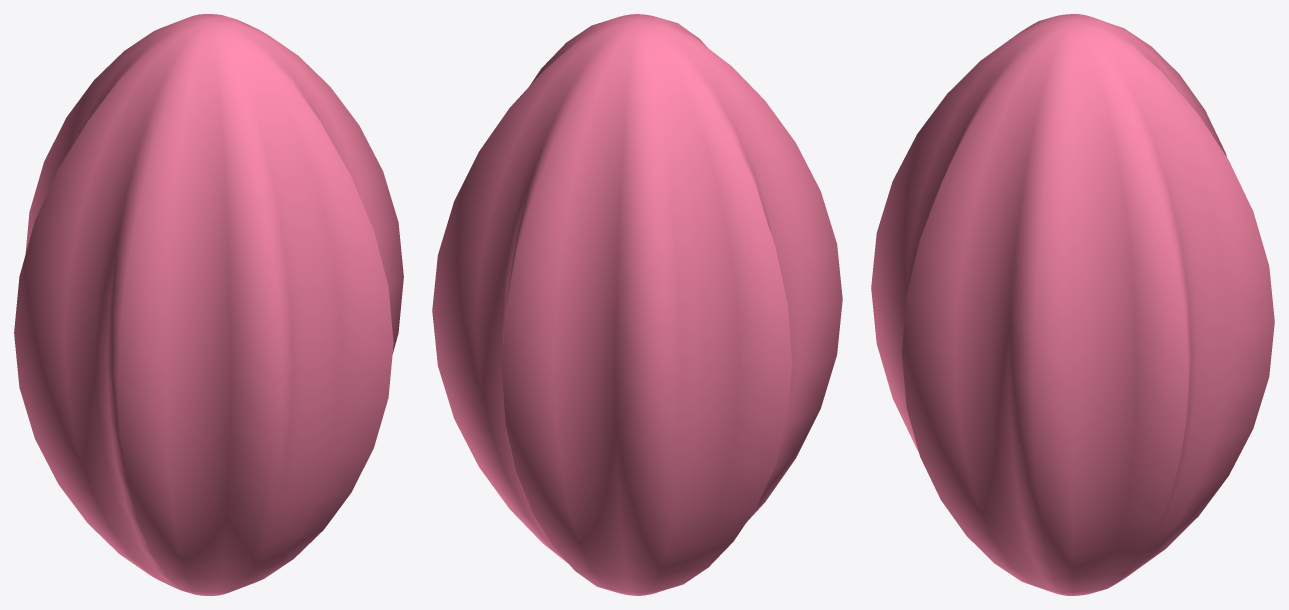
File: SM_PlanteCactus.fbx
3 renders of one model, left to right at view 1: azimuth 30°, elevation 25°; view 2: azimuth 150°, elevation 25°; view 3: azimuth 270°, elevation 25°, orthographic.
Parts seen in each view (by area): view 1: SM_PlanteCactus; view 2: SM_PlanteCactus; view 3: SM_PlanteCactus.
Boxes of the visible parts, <box> form: SM_PlanteCactus: <box>14,14,403,595</box>; SM_PlanteCactus: <box>432,14,842,595</box>; SM_PlanteCactus: <box>871,14,1274,595</box>.
Size of the model in its own units: 55.26 by 55.26 by 85.77.
